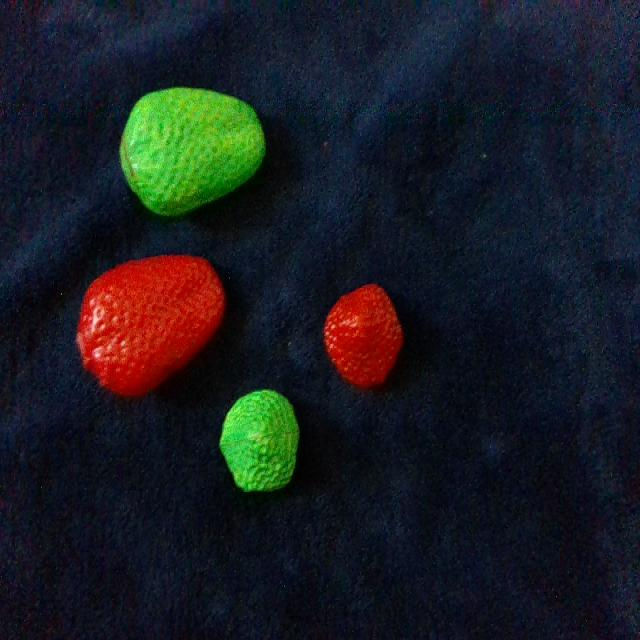chica_roja: (324, 284, 402, 387)
grande_roja: (77, 257, 225, 395)
verde: (120, 88, 265, 216), (220, 389, 298, 491)
